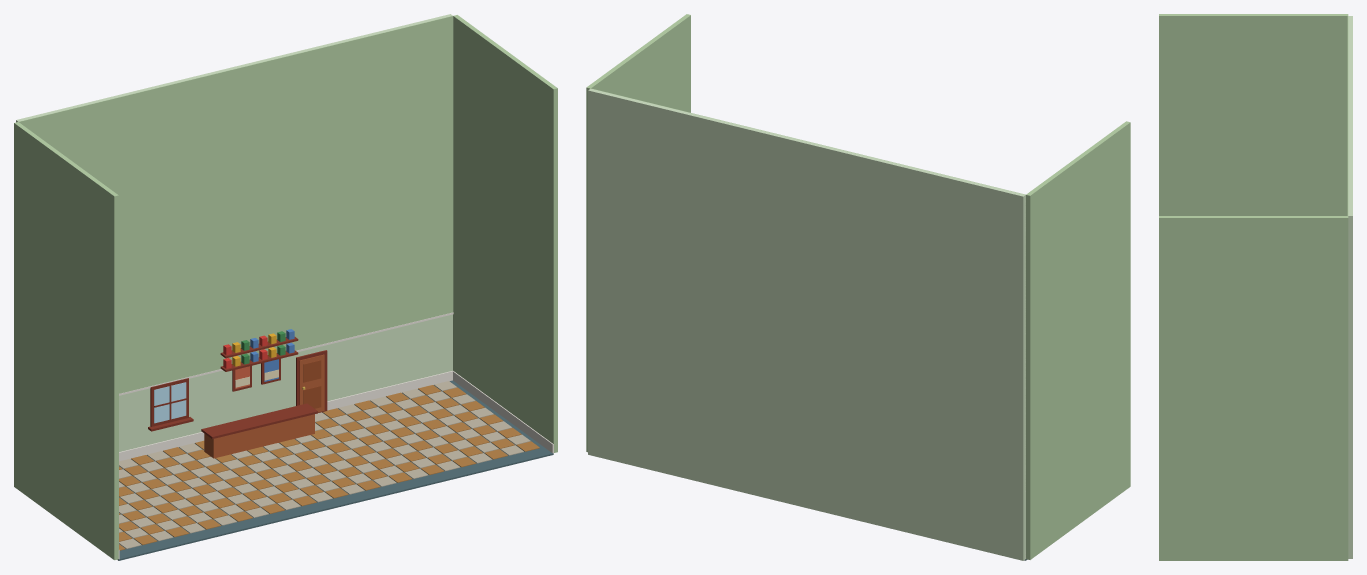
The model's file is room_verde_shop.glb.
3 views of the same model, side by side, from view 1: azimuth 30°, elevation 25°; view 2: azimuth 150°, elevation 25°; view 3: azimuth 270°, elevation 25° (orthographic). The views are drawn at different scales.
Parts seen in each view (by area): view 1: room; view 2: room; view 3: room.
Part boxes in pixels (x1,y1,x2,y2): room: [14, 14, 557, 560]; room: [586, 14, 1130, 560]; room: [1159, 14, 1352, 560].
Size of the model in its own units: 30.6 by 24.11 by 12.3.
